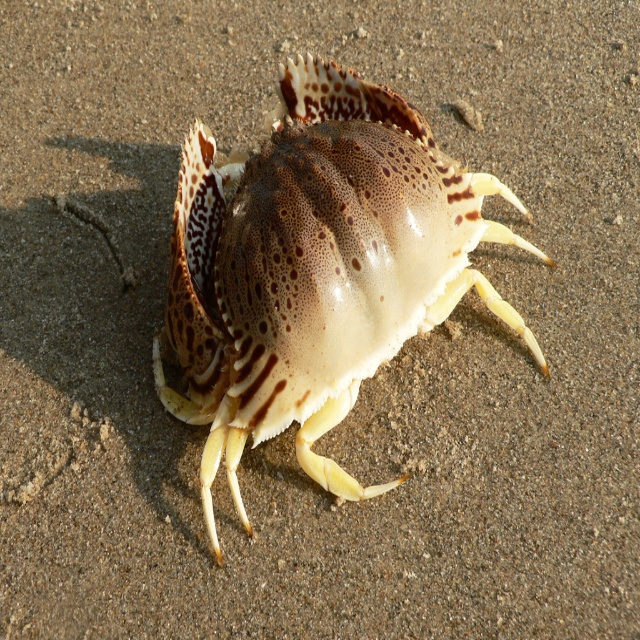Crab: (146, 46, 562, 569)
